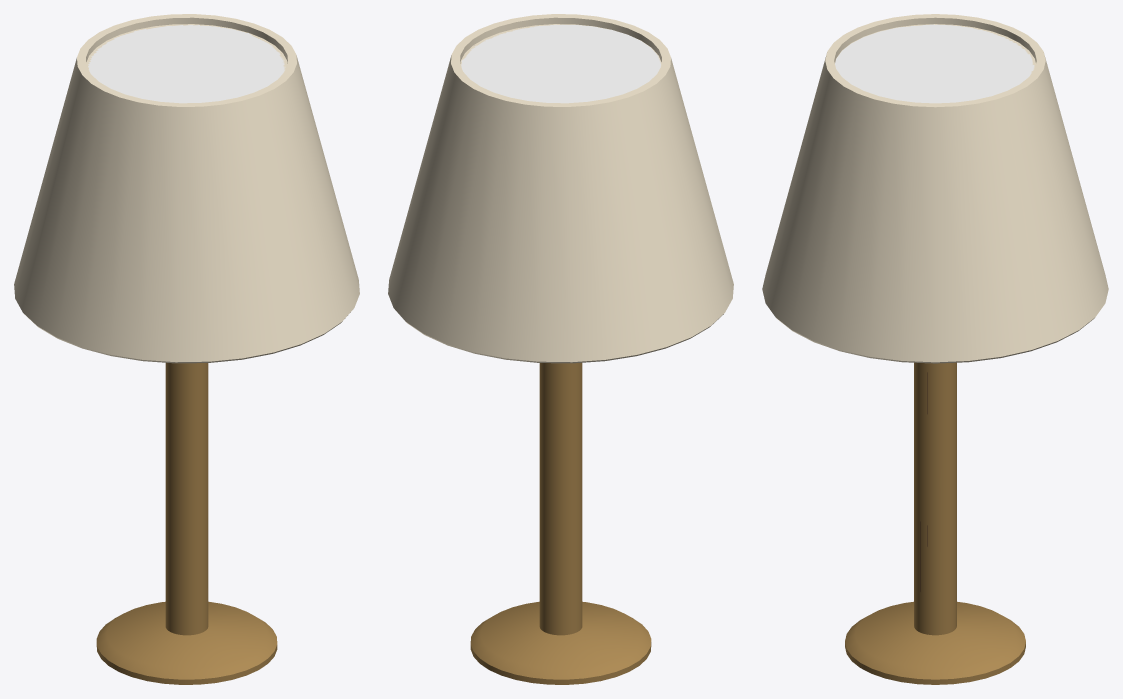
File: Lamp.glb
3 renders of one model, left to right at view 1: azimuth 30°, elevation 25°; view 2: azimuth 150°, elevation 25°; view 3: azimuth 270°, elevation 25°, orthographic.
Parts seen in each view (by area): view 1: Lamp; view 2: Lamp; view 3: Lamp.
Boxes of the visible parts, box(x1,y1,x2,y2) form: Lamp: box(14, 14, 359, 684); Lamp: box(388, 14, 733, 684); Lamp: box(762, 14, 1108, 684).
Size of the model in its own units: 0.2803 by 0.523 by 0.2803.
1 material, 1 textured.
